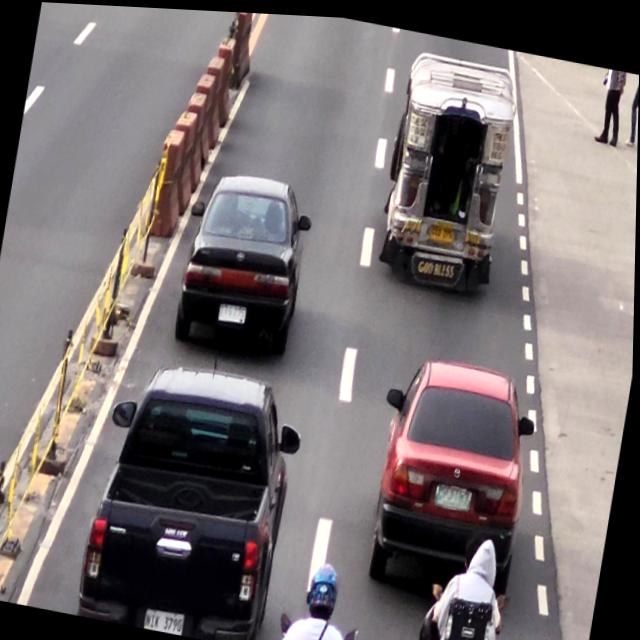Car: (87, 364, 296, 640), (372, 357, 541, 597), (178, 165, 307, 345)
Jeep: (376, 43, 523, 294)
License-Plate: (146, 606, 189, 634), (438, 474, 475, 505), (218, 297, 249, 323), (429, 218, 459, 242)
Motorcycle: (422, 528, 516, 640), (288, 559, 361, 640)
